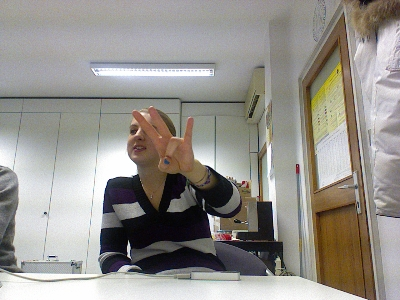观音: (130, 104, 194, 175)
